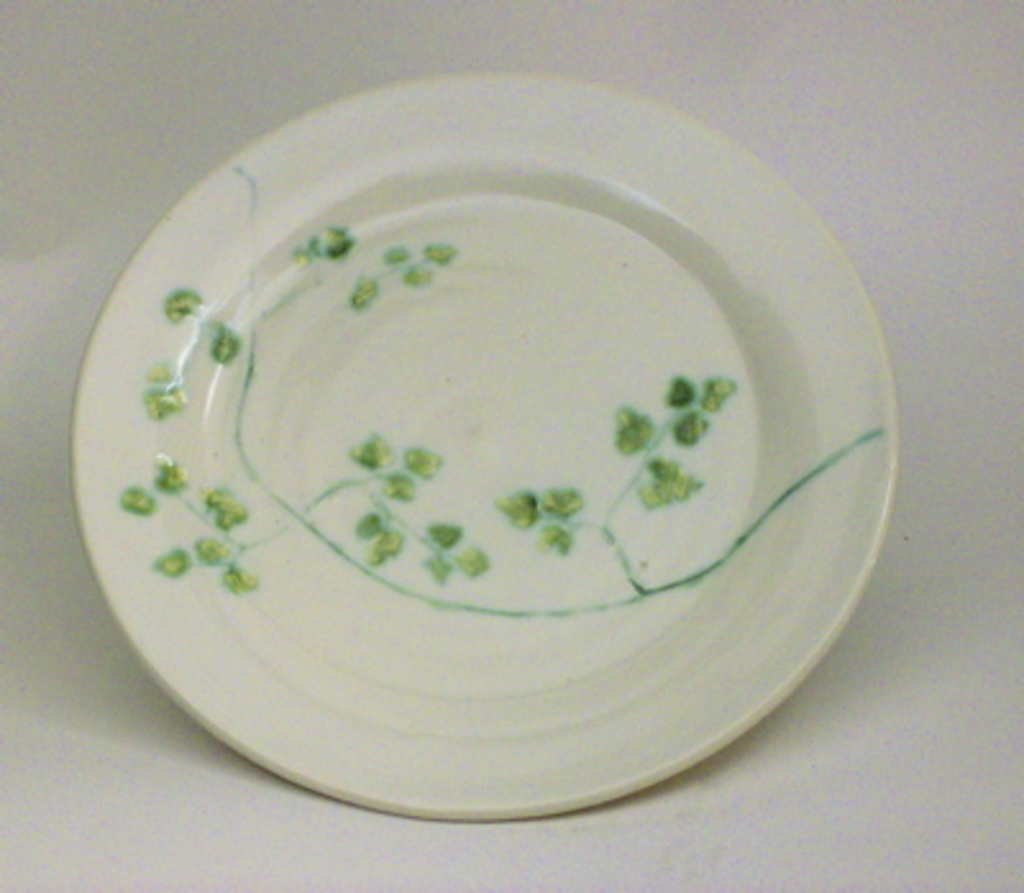plate: (69, 71, 898, 818)
